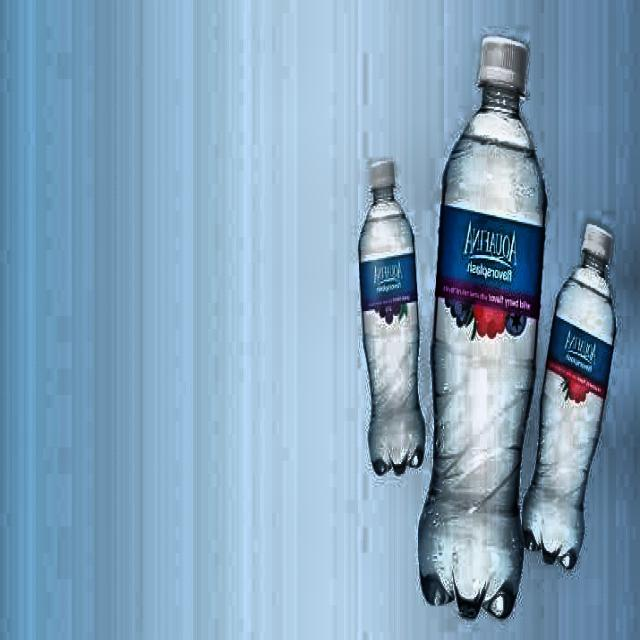Bottles: (411, 17, 557, 634)
